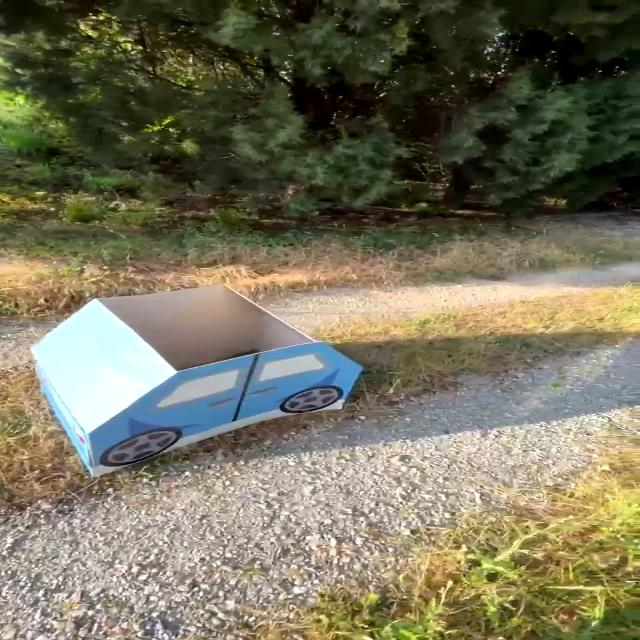blue_car: (1, 254, 384, 505)
